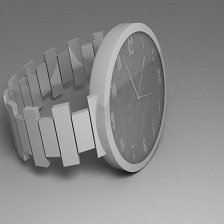Watch: (5, 21, 194, 192)
